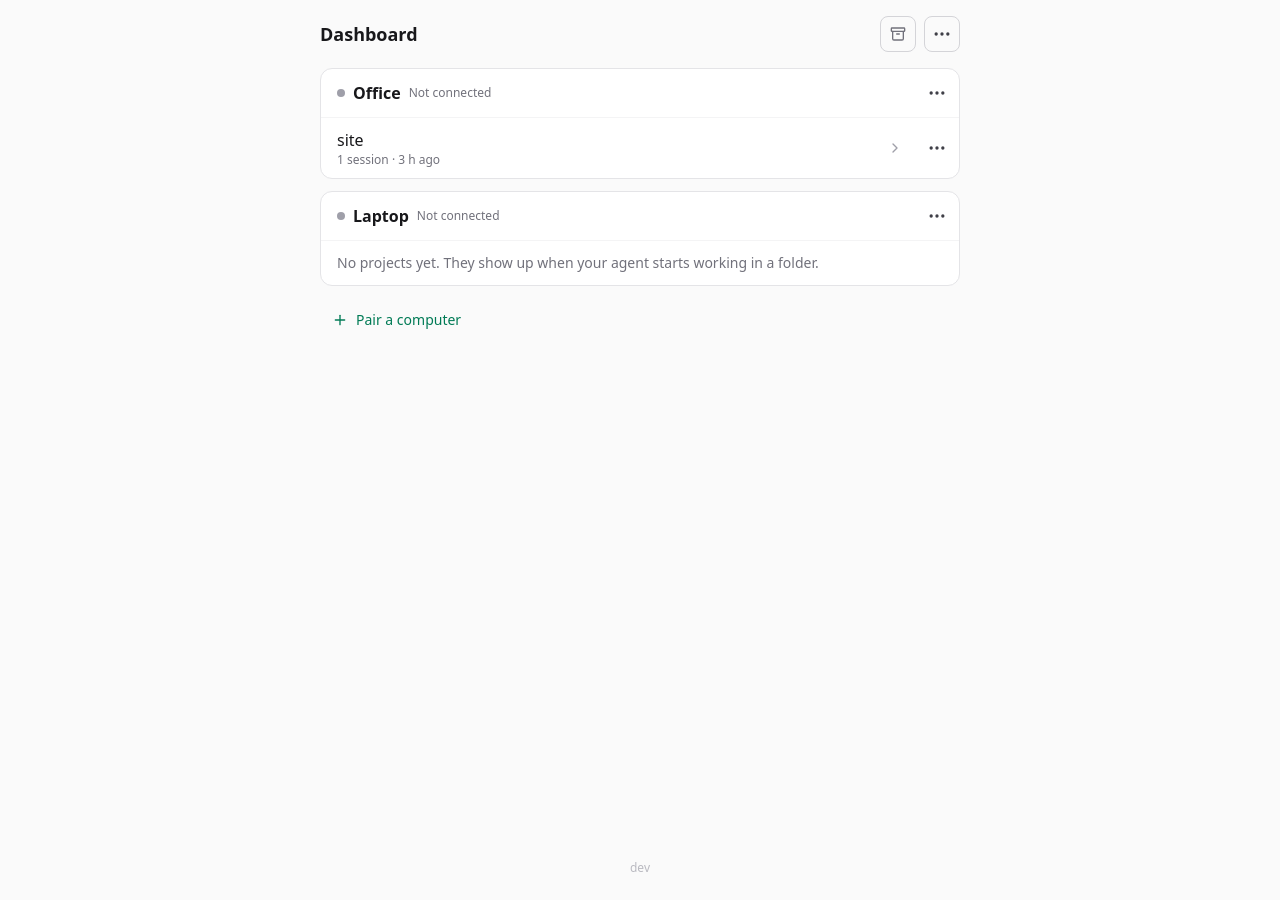
it: Dashboard › the archive: archived projects leave the cards, and come back from the sheet
Later steps or results of the test are not shown.
expect the button "palmtopai" is not shown: met
expect the button "site 1 session · 3 h ago" is shown: met, box [321,118,919,178]
Note: A project with sessions can be archived from its menu.
Step 1. Click the button named "Menu of site" → (937, 148), box [919,130,955,166]
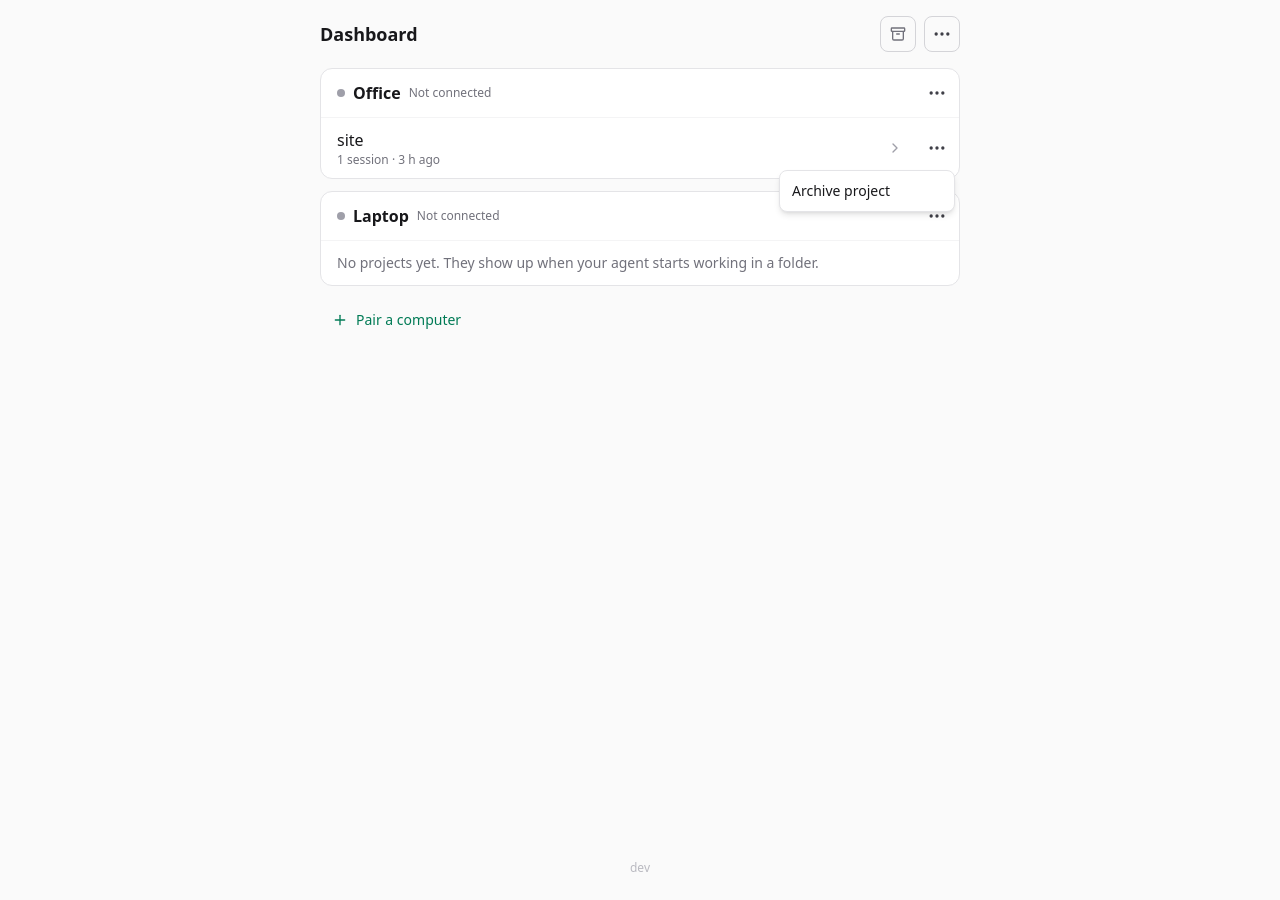
Step 2. Click the menu item "Archive project" → (841, 190), box [792,181,890,200]
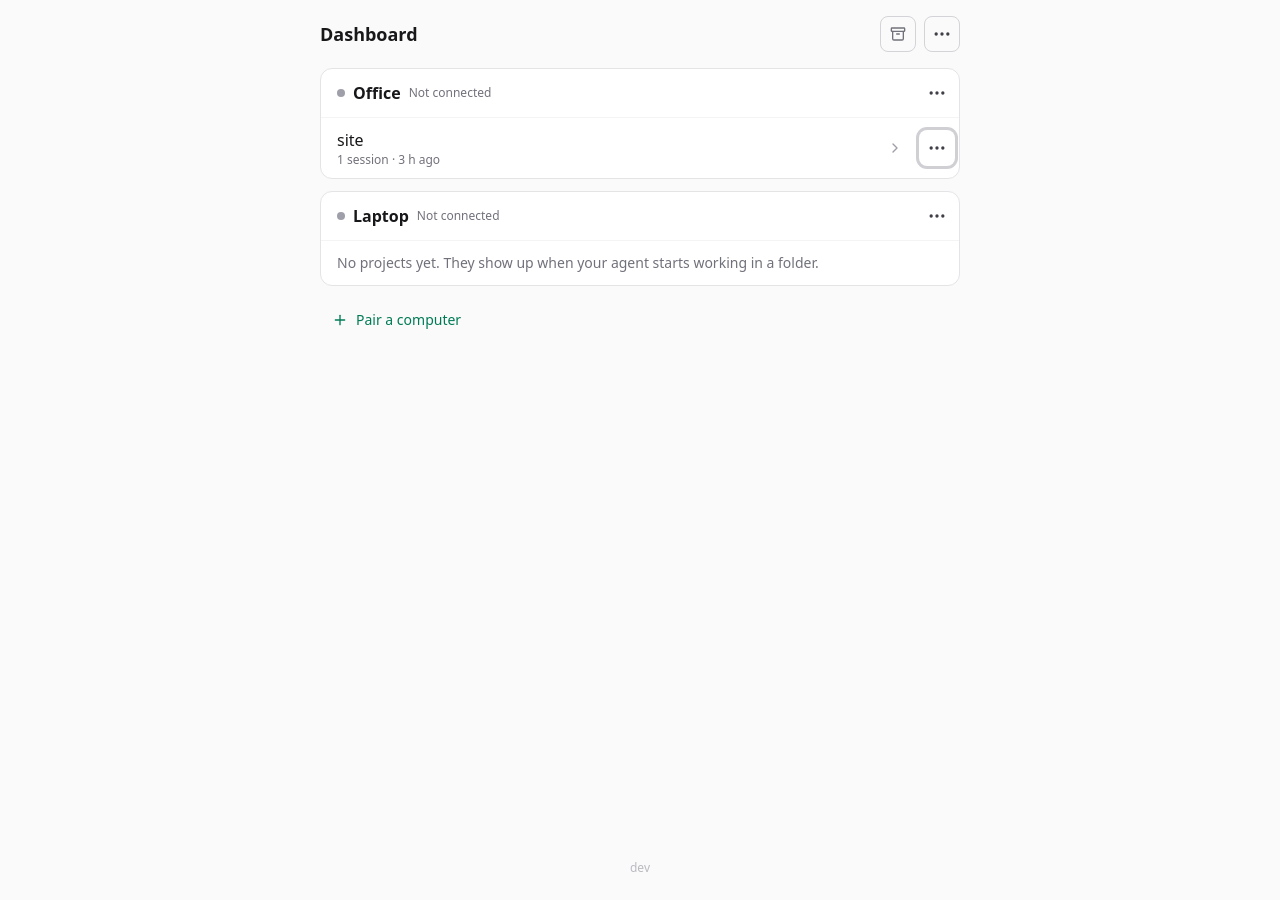
Step 3. Click the button named "Archive" → (898, 34), box [880,16,916,52]
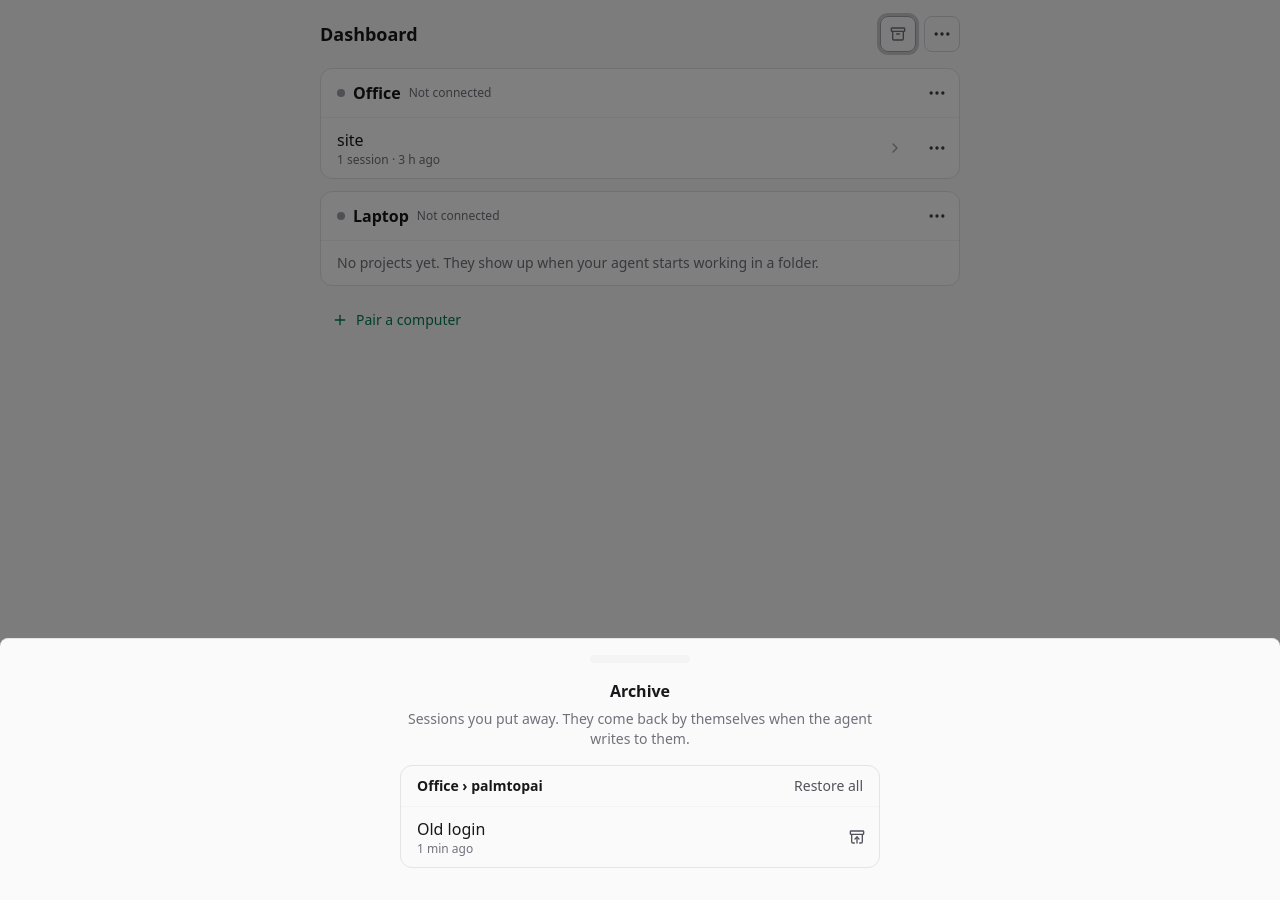
expect the text "Office › palmtopai" is shown: met, box [417,776,543,795]
